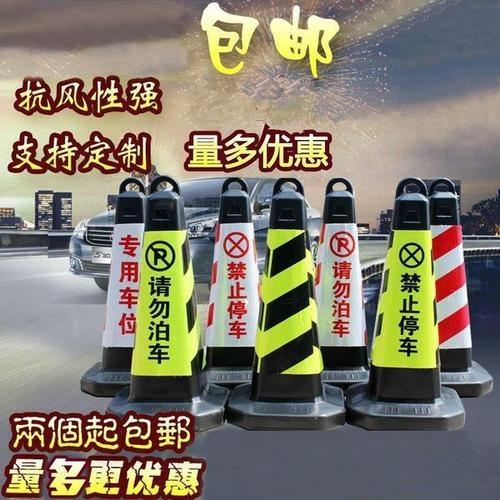cone_barrel: (358, 185, 454, 423), (132, 181, 199, 407), (251, 182, 318, 404), (312, 178, 373, 385), (201, 182, 266, 373), (424, 183, 484, 386), (96, 189, 146, 380)
